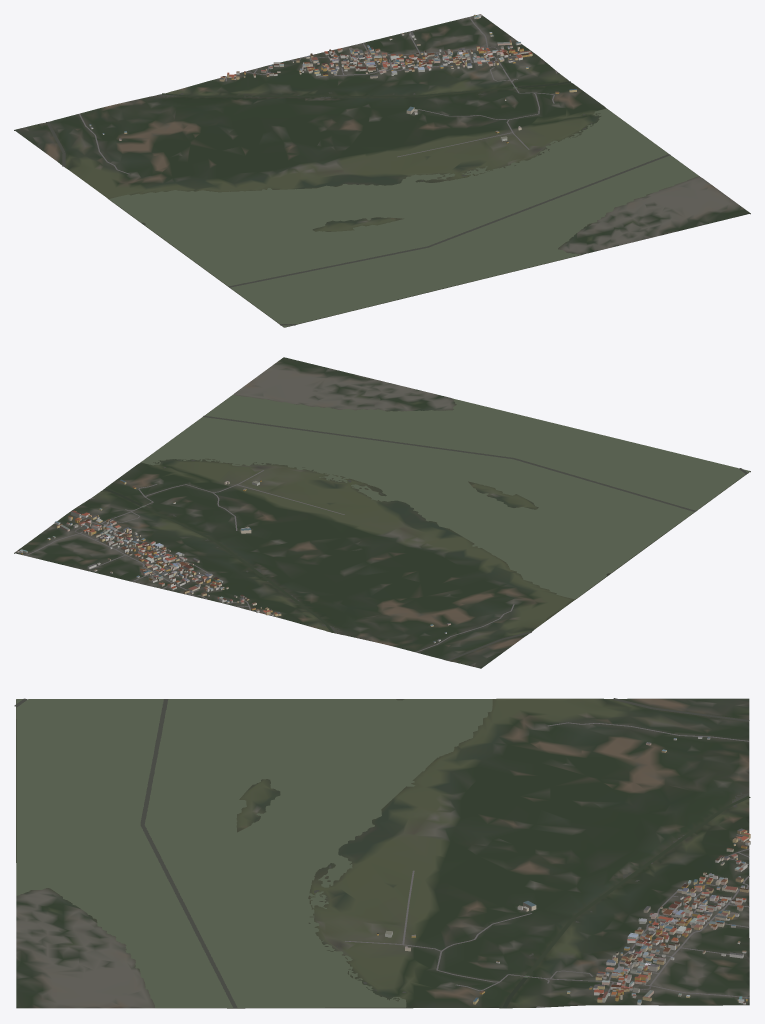
The picture shows the model from 3 angles, top to bottom: view 1: azimuth 30°, elevation 25°; view 2: azimuth 150°, elevation 25°; view 3: azimuth 270°, elevation 25°; orthographic projection. The views are drawn at different scales.
Visible parts, largest first — view 1: ground, water, buildings, roads; view 2: ground, water, buildings, roads; view 3: ground, water, buildings, roads.
Part boxes in pixels (bbox=[...]): ground: bbox=[14, 14, 750, 327]; water: bbox=[46, 81, 698, 327]; buildings: bbox=[89, 14, 576, 143]; roads: bbox=[79, 17, 557, 174]; ground: bbox=[14, 357, 750, 668]; water: bbox=[103, 394, 749, 660]; buildings: bbox=[16, 479, 450, 643]; roads: bbox=[25, 470, 514, 652]; ground: bbox=[16, 698, 749, 1008]; water: bbox=[14, 698, 750, 1008]; buildings: bbox=[376, 736, 750, 1004]; roads: bbox=[345, 722, 749, 1007].
Size of the model in its own units: 1405 by 20.9 by 1409.
